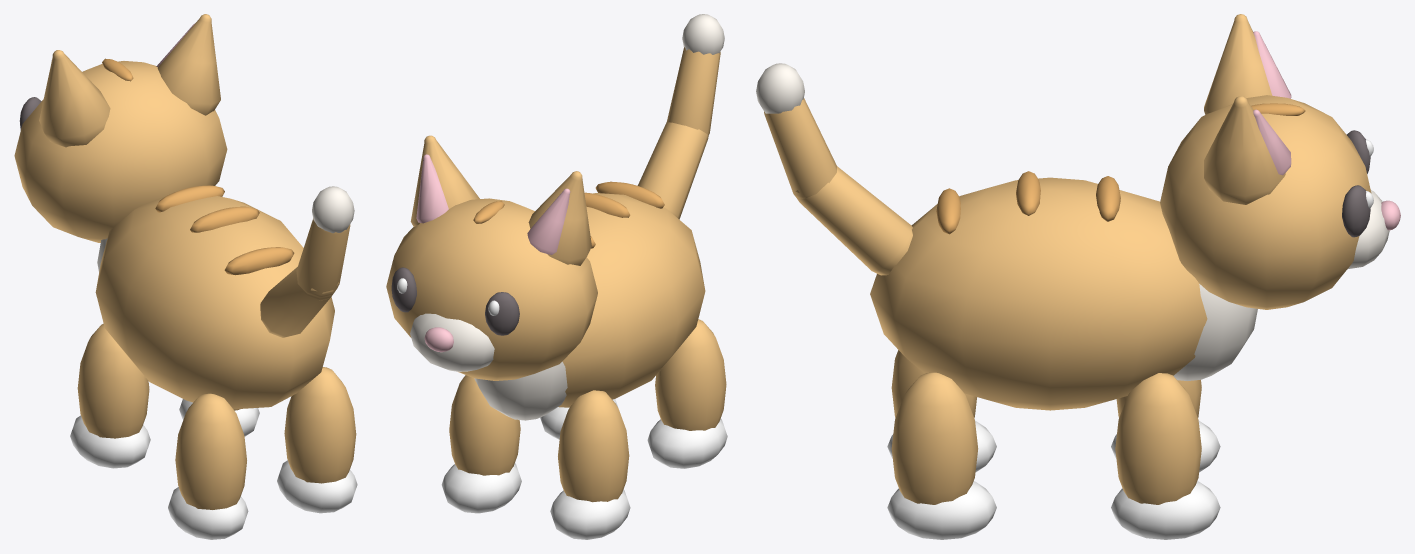
File: hewan2_kucing.fbx
The picture shows the model from 3 angles, left to right: view 1: azimuth 30°, elevation 25°; view 2: azimuth 150°, elevation 25°; view 3: azimuth 270°, elevation 25°; orthographic projection. The views are drawn at different scales.
Visible parts, largest first — view 1: Body__Body, Head__Body, LegBL__Body, LegBR__Body, LegFL__Body, EarL__Body, EarR__Body, Body__Stripe, TailB__Body, Tail__Body, LegBR__White, LegFL__White (+3 smaller); view 2: Head__Body, Body__Body, LegFL__Body, LegBL__Body, LegFR__Body, Tail__Body, Body__Light, TailB__Body, Head__Light, LegBL__White, LegFR__White, LegFL__White (+9 smaller); view 3: Body__Body, Head__Body, LegBR__Body, LegFR__Body, Tail__Body, EarR__Body, TailB__Body, LegBR__White, LegFR__White, Body__Light, EarL__Body, Body__Stripe (+8 smaller).
Boxes of the visible parts, bbox=[...] form: Body__Body: bbox=[95, 196, 334, 409]; Head__Body: bbox=[14, 61, 227, 242]; LegBL__Body: bbox=[175, 393, 246, 509]; LegBR__Body: bbox=[284, 367, 356, 483]; LegFL__Body: bbox=[77, 323, 149, 438]; EarL__Body: bbox=[39, 50, 110, 147]; EarR__Body: bbox=[157, 14, 220, 115]; Body__Stripe: bbox=[155, 185, 294, 275]; TailB__Body: bbox=[296, 218, 350, 300]; Tail__Body: bbox=[260, 267, 339, 337]; LegBR__White: bbox=[277, 460, 357, 513]; LegFL__White: bbox=[70, 415, 150, 468]; Head__Body: bbox=[386, 198, 597, 380]; Body__Body: bbox=[558, 193, 705, 407]; LegFL__Body: bbox=[558, 390, 629, 502]; LegBL__Body: bbox=[655, 319, 726, 430]; LegFR__Body: bbox=[449, 375, 520, 475]; Tail__Body: bbox=[637, 122, 708, 219]; Body__Light: bbox=[474, 361, 567, 420]; TailB__Body: bbox=[667, 47, 720, 135]; Head__Light: bbox=[410, 313, 494, 371]; LegBL__White: bbox=[647, 418, 727, 468]; LegFR__White: bbox=[441, 463, 521, 513]; LegFL__White: bbox=[550, 489, 630, 539]; Body__Body: bbox=[870, 177, 1207, 410]; Head__Body: bbox=[1160, 95, 1371, 309]; LegBR__Body: bbox=[891, 372, 978, 504]; LegFR__Body: bbox=[1115, 373, 1201, 504]; Tail__Body: bbox=[795, 166, 912, 275]; EarR__Body: bbox=[1204, 96, 1285, 204]; TailB__Body: bbox=[764, 98, 836, 198]; LegBR__White: bbox=[887, 481, 996, 539]; LegFR__White: bbox=[1111, 481, 1220, 539]; Body__Light: bbox=[1173, 284, 1257, 380]; EarL__Body: bbox=[1204, 14, 1272, 114]; Body__Stripe: bbox=[936, 171, 1120, 234].
Size of the model in its own units: 1.67 by 3.26 by 4.25.
